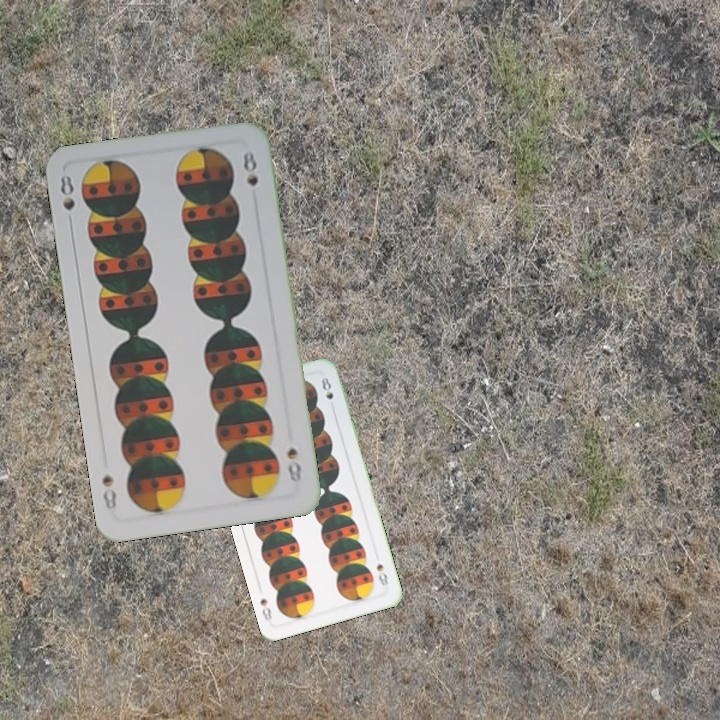S8: (56, 170, 78, 230), (283, 443, 304, 485), (372, 559, 391, 590)
